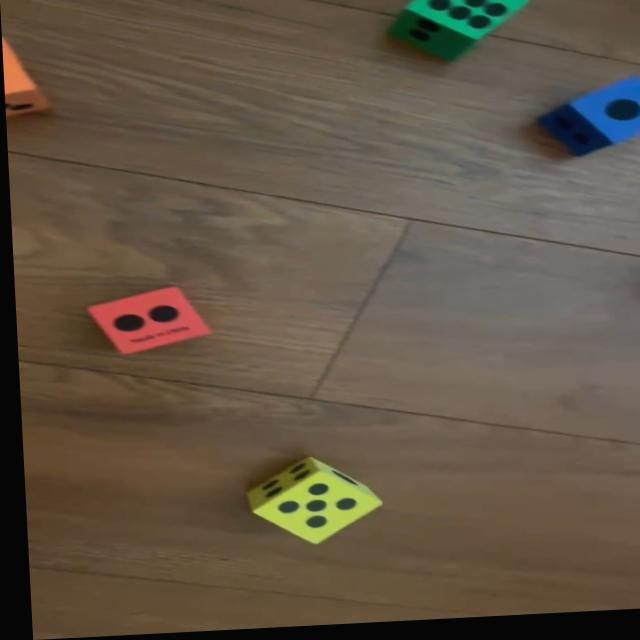cube: (389, 0, 530, 68), (84, 286, 209, 356), (533, 84, 640, 163)
